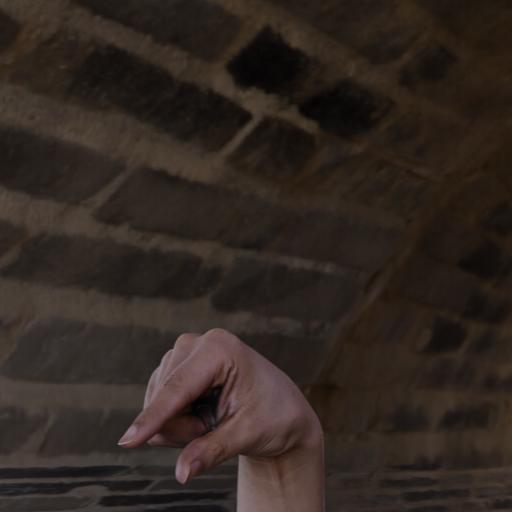Q: (107, 309, 360, 503)
